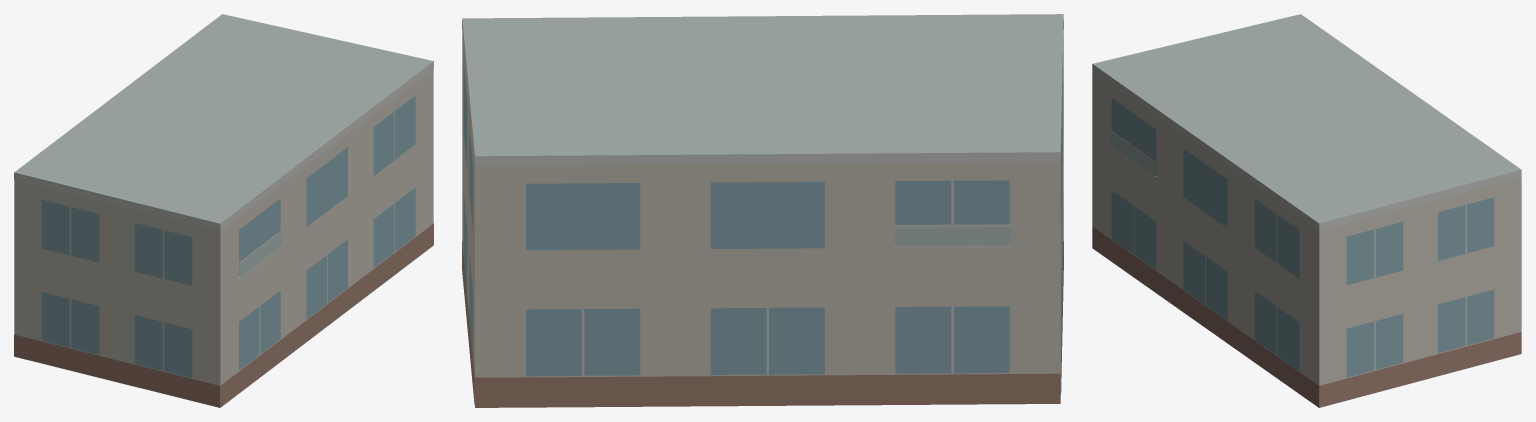
The model's file is survey-upis-33046917.glb.
3 renders of one model, left to right at view 1: azimuth 30°, elevation 25°; view 2: azimuth 150°, elevation 25°; view 3: azimuth 270°, elevation 25°, orthographic. The views are drawn at different scales.
Visible parts, largest first — view 1: survey-upis-33046917.tmp; view 2: survey-upis-33046917.tmp; view 3: survey-upis-33046917.tmp.
Boxes of the visible parts, x1,y1,x2,y2 form: survey-upis-33046917.tmp: [14, 14, 433, 407]; survey-upis-33046917.tmp: [462, 14, 1063, 407]; survey-upis-33046917.tmp: [1092, 14, 1521, 407].
Size of the model in its own units: 14.87 by 6.1 by 12.88.
